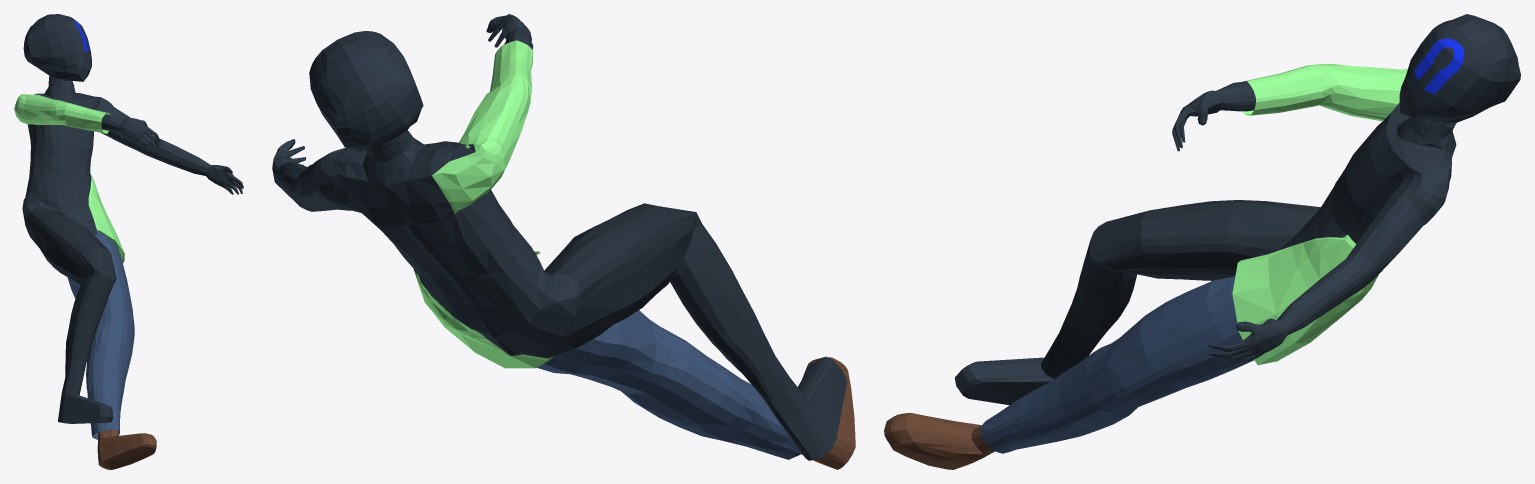
The model's file is Mar_Die_000010.obj.
3 views of the same model, side by side, from view 1: azimuth 30°, elevation 25°; view 2: azimuth 150°, elevation 25°; view 3: azimuth 270°, elevation 25° (orthographic). The views are drawn at different scales.
Visible parts, largest first — view 1: Cube.000_Cube.001; view 2: Cube.000_Cube.001; view 3: Cube.000_Cube.001.
Part boxes in pixels (x1=…): Cube.000_Cube.001: x1=14, y1=14, x2=243, y2=469; Cube.000_Cube.001: x1=272, y1=14, x2=855, y2=469; Cube.000_Cube.001: x1=884, y1=14, x2=1520, y2=469.
Bounding box in the file's own units: 2.16 × 2.74 × 2.99.
